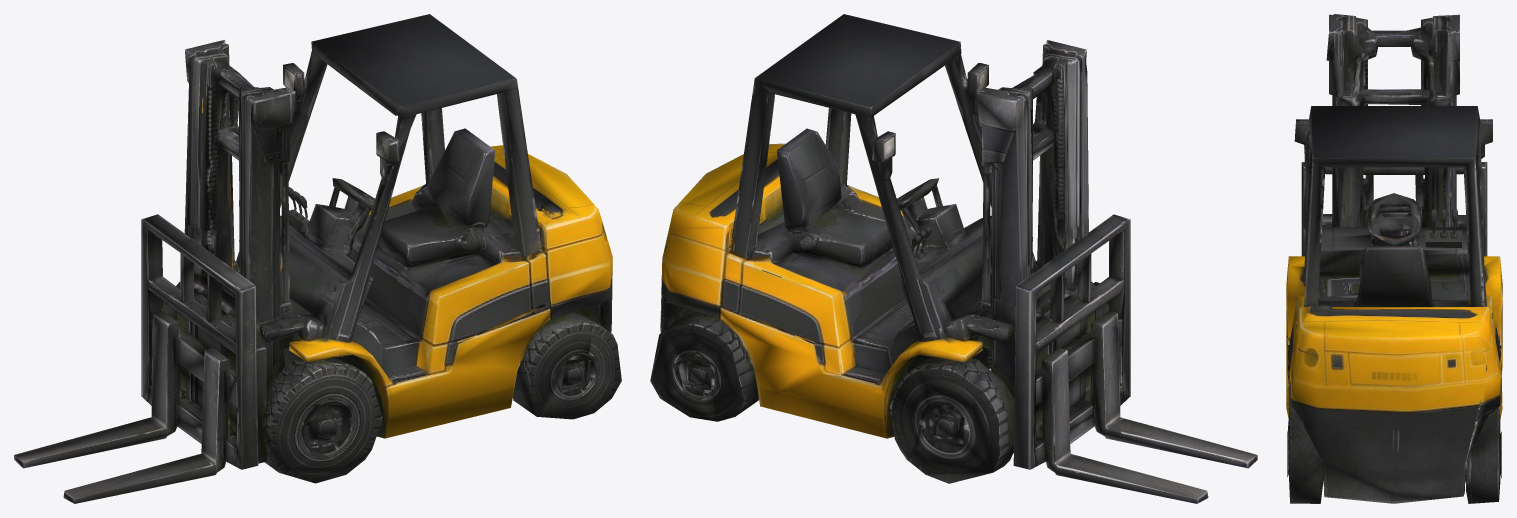
File: ForliftOnly2_optimized.glb
The picture shows the model from 3 angles, left to right: view 1: azimuth 30°, elevation 25°; view 2: azimuth 150°, elevation 25°; view 3: azimuth 270°, elevation 25°; orthographic projection. The views are drawn at different scales.
Visible parts, largest first — view 1: Forklift; view 2: Forklift; view 3: Forklift, ControllerOFForklift.
Boxes of the visible parts, <box> form: Forklift: <box>14,14,621,503</box>; Forklift: <box>650,14,1257,503</box>; Forklift: <box>1286,14,1502,503</box>; ControllerOFForklift: <box>1425,209,1461,247</box>.
Bounding box in the file's own units: 1.91 × 1.3 × 0.7162.
1 material, 1 textured.
